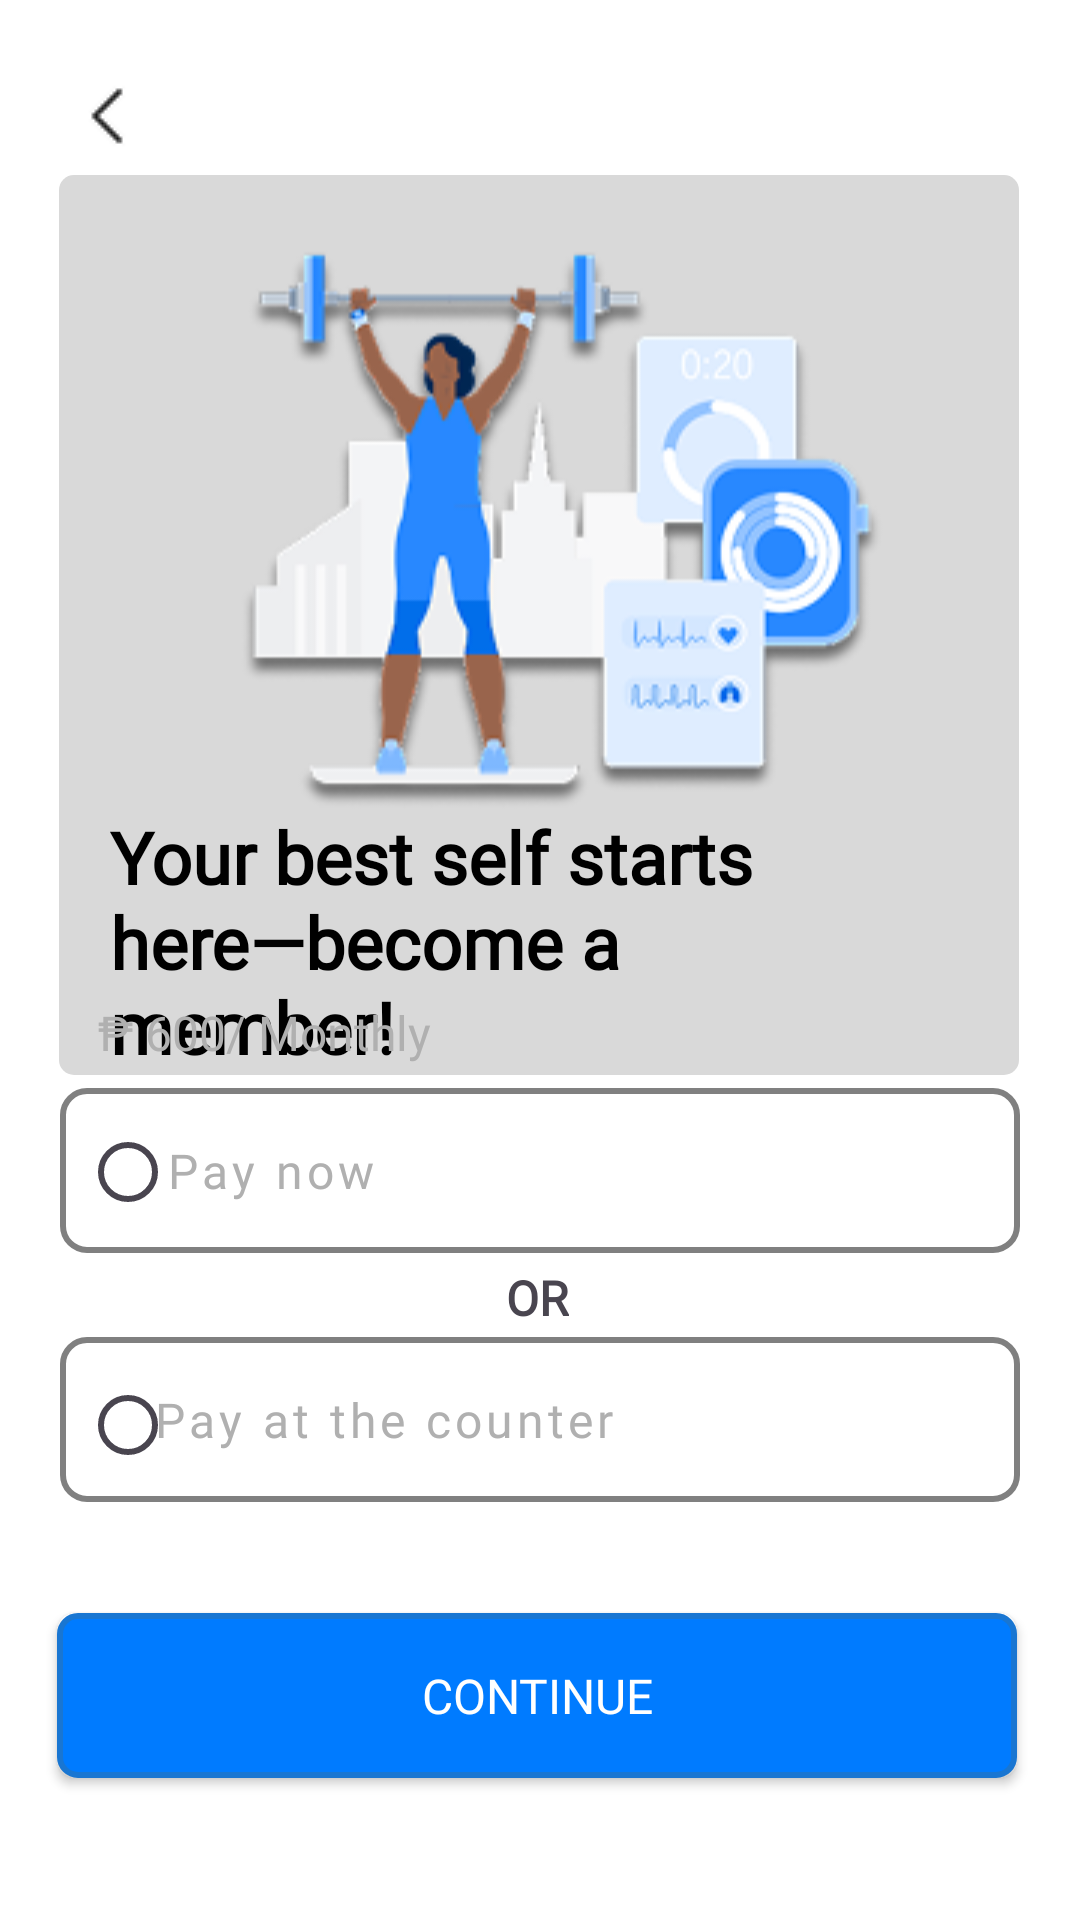

Icon bounding boxes for this 1080px×1920px phone screenshot, format {"left": x1, "top": y1, "right": x2, "bottom": y2}:
Back: {"left": 91, "top": 88, "right": 123, "bottom": 144}
